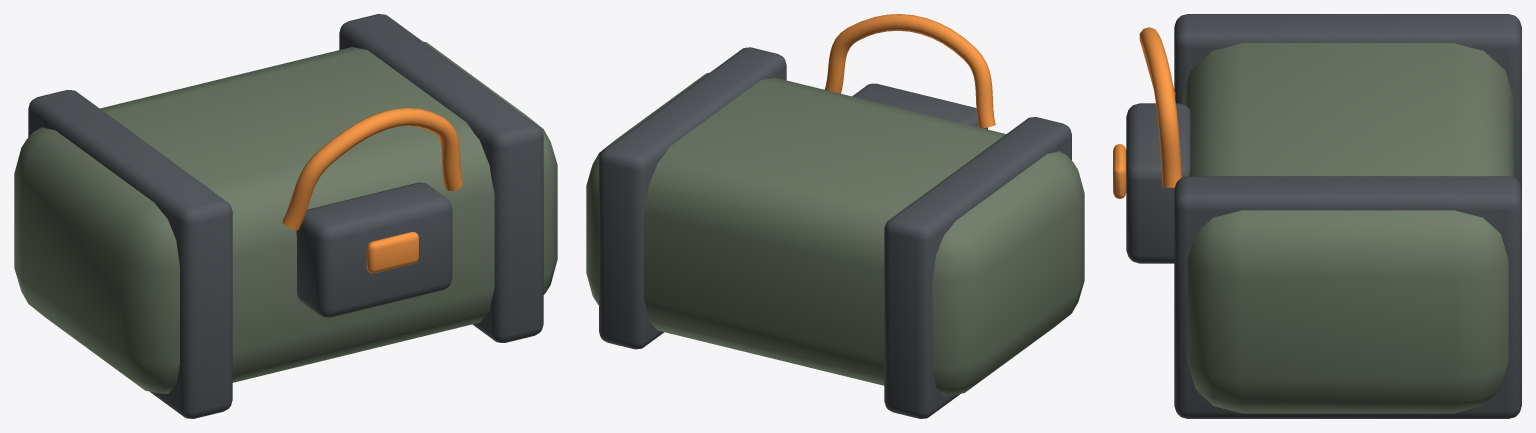
The model's file is magnetic_charge.glb.
3 renders of one model, left to right at view 1: azimuth 30°, elevation 25°; view 2: azimuth 150°, elevation 25°; view 3: azimuth 270°, elevation 25°, orthographic. The views are drawn at different scales.
Parts seen in each view (by area): view 1: Static_C4_rubberized_housing, Static_C4_screws, Static_C4_orange_stripe; view 2: Static_C4_rubberized_housing, Static_C4_screws, Static_C4_orange_stripe; view 3: Static_C4_rubberized_housing, Static_C4_screws, Static_C4_orange_stripe.
Boxes of the visible parts, x1,y1,x2,y2 form: Static_C4_rubberized_housing: (14, 41, 557, 393); Static_C4_screws: (28, 14, 543, 418); Static_C4_orange_stripe: (282, 108, 462, 273); Static_C4_rubberized_housing: (586, 72, 1084, 395); Static_C4_screws: (599, 47, 1071, 418); Static_C4_orange_stripe: (824, 14, 995, 128); Static_C4_rubberized_housing: (1182, 43, 1513, 413); Static_C4_screws: (1126, 14, 1521, 418); Static_C4_orange_stripe: (1113, 27, 1181, 198).
Bounding box in the file's own units: 0.16 × 0.0976 × 0.1235.
